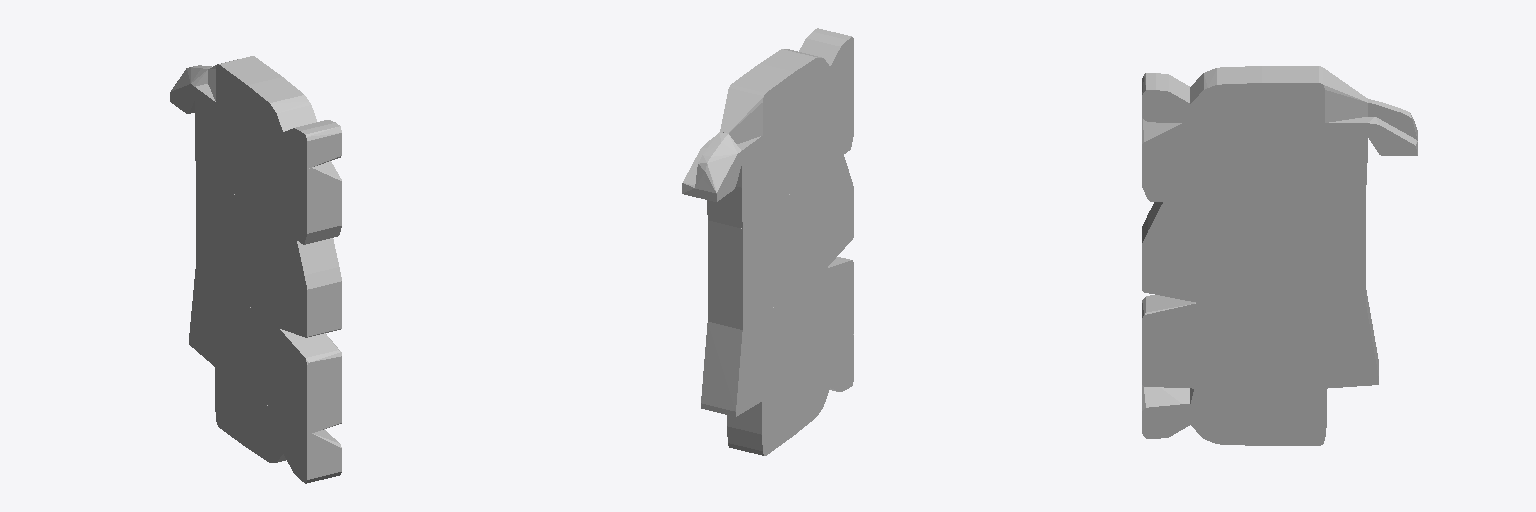
File: W_QS_Main_1.obj_vhacd.obj
The picture shows the model from 3 angles: view 1: azimuth 30°, elevation 25°; view 2: azimuth 150°, elevation 25°; view 3: azimuth 270°, elevation 25°; orthographic projection.
Visible parts, largest first — view 1: convex_0, convex_1, convex_4, convex_7, convex_5, convex_6, convex_8, convex_2; view 2: convex_0, convex_1, convex_4, convex_7, convex_5, convex_2, convex_8, convex_6; view 3: convex_0, convex_1, convex_4, convex_7, convex_5, convex_6, convex_8, convex_3, convex_2.
Part boxes in pixels (x1,y1,x2,y2): convex_0: (196,167,341,337); convex_1: (189,268,341,434); convex_4: (195,84,341,244); convex_7: (208,56,316,150); convex_5: (215,367,285,462); convex_6: (283,417,341,483); convex_8: (283,120,341,168); convex_2: (170,65,211,113); convex_0: (708,155,853,329); convex_1: (701,257,853,416); convex_4: (707,69,853,228); convex_7: (720,49,829,143); convex_5: (727,352,829,455); convex_2: (695,132,741,201); convex_8: (799,28,853,85); convex_6: (830,334,853,391); convex_0: (1142,202,1365,302); convex_1: (1142,290,1378,388); convex_4: (1142,117,1367,201); convex_7: (1190,66,1367,122); convex_5: (1190,388,1326,445); convex_6: (1142,385,1189,438); convex_8: (1142,73,1189,122); convex_3: (1368,117,1417,155); convex_2: (1368,99,1417,140).
Size of the model in its own units: 0.0053 by 0.0529 by 0.0364.